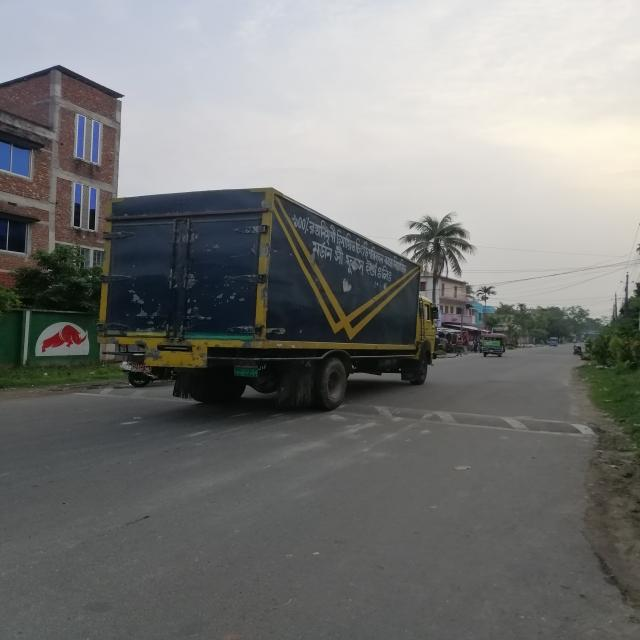Truck: (90, 171, 462, 429)
